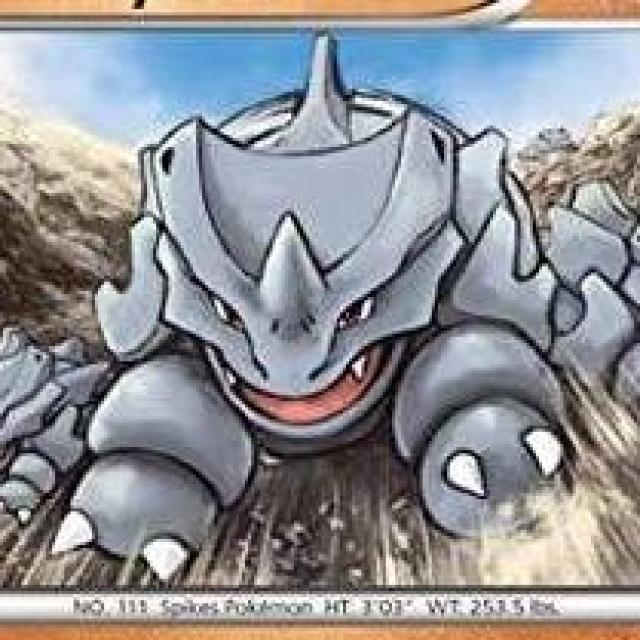Rhyhorn: (50, 46, 574, 575)
